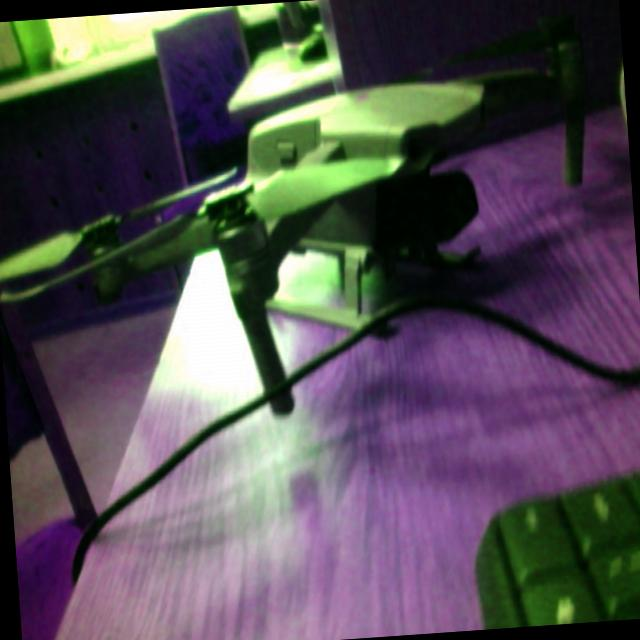drone: (0, 3, 640, 434)
